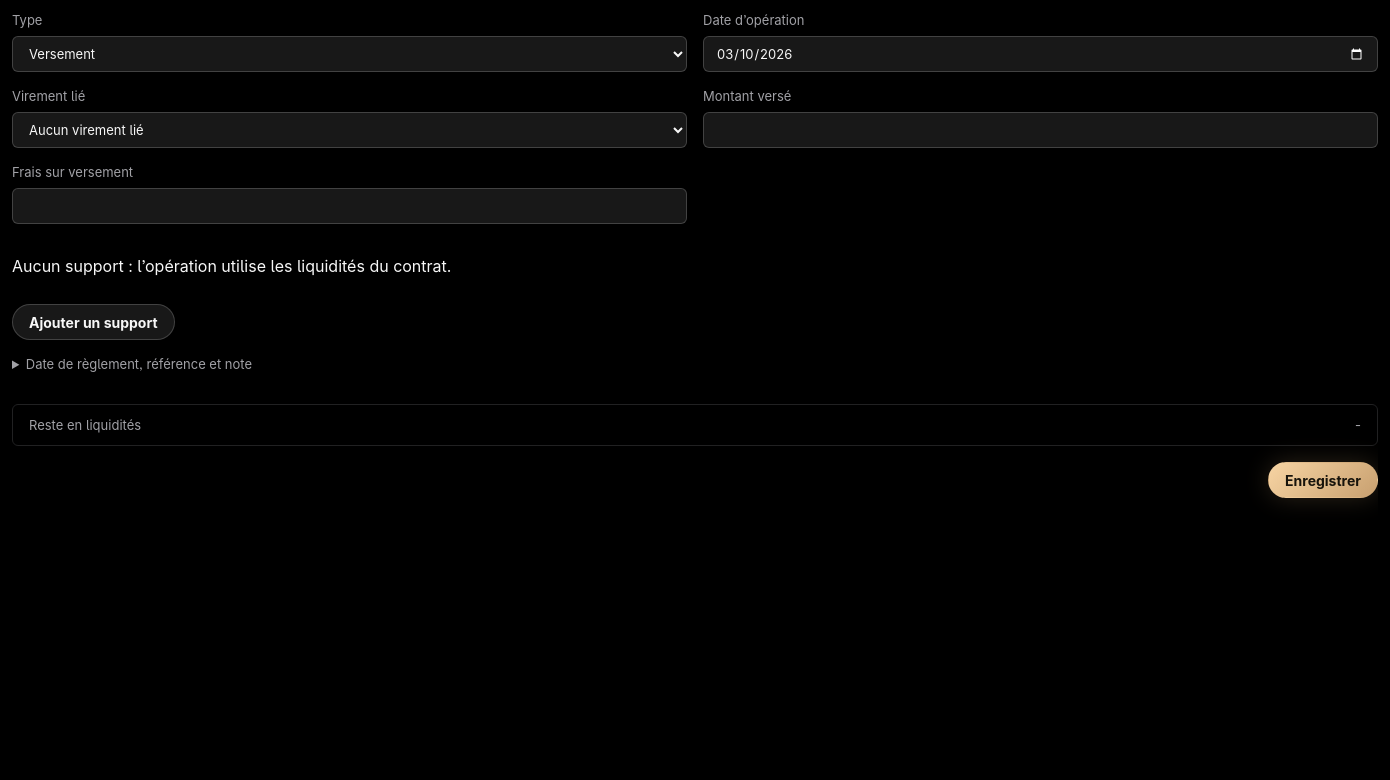
OperationForm › shows the server net paid for the reference surrender
The width and height of the screenshot is (1390, 780).
Select "Rachat partiel" in the dropdown labelled "Type" at {"x": 350, "y": 54}, box [12,36,687,72]
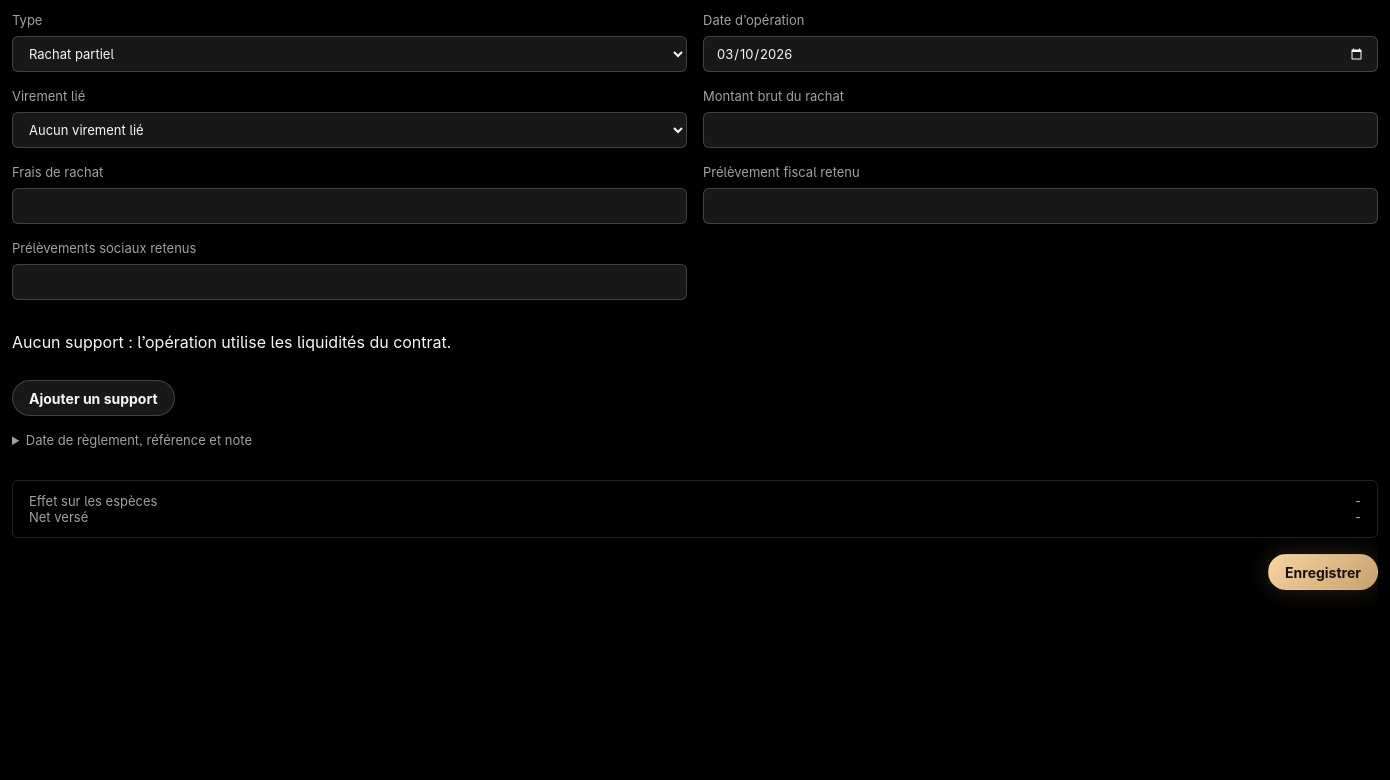
Type "1050.00" into the field labelled "Montant brut du rachat" at {"x": 1040, "y": 130}, box [703,112,1378,148]
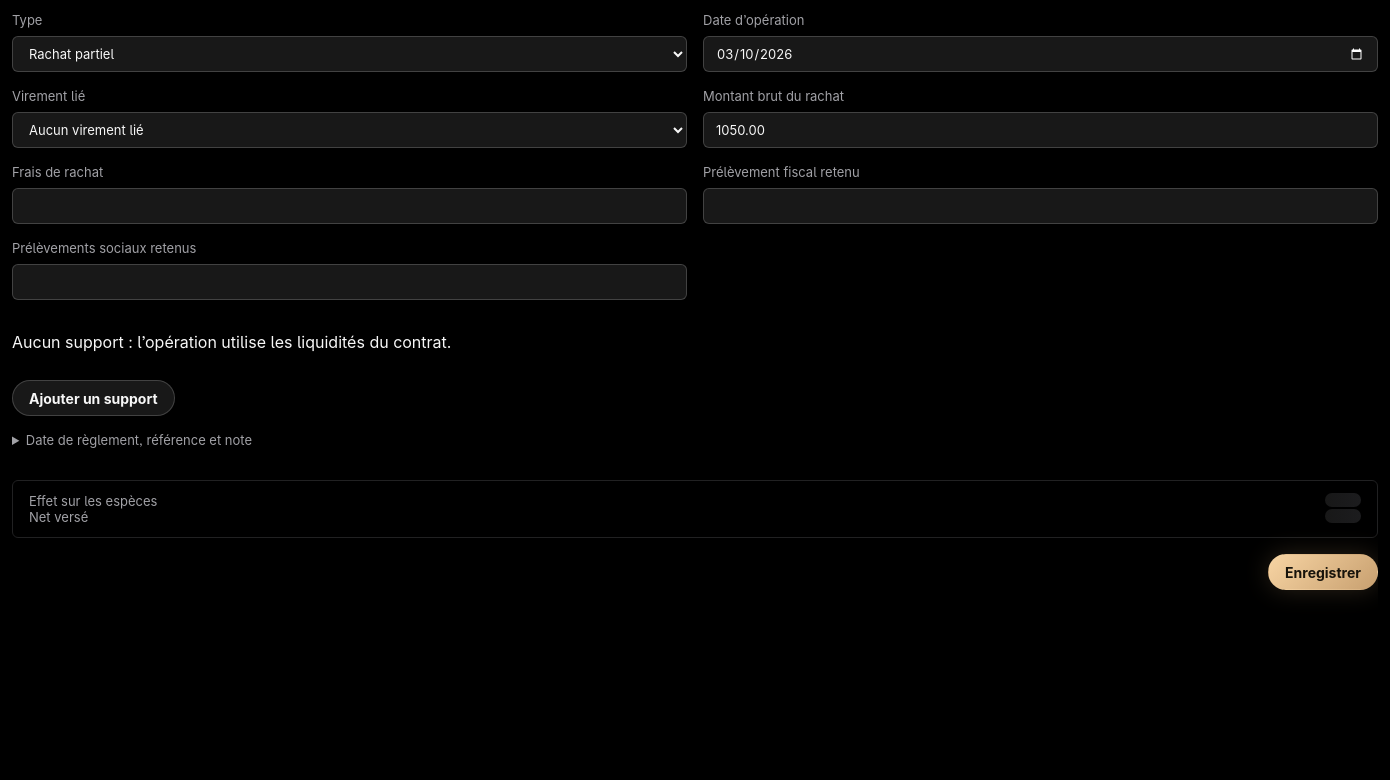
Type "7.50" into the field labelled "Prélèvement fiscal retenu" at {"x": 1040, "y": 206}, box [703,188,1378,224]
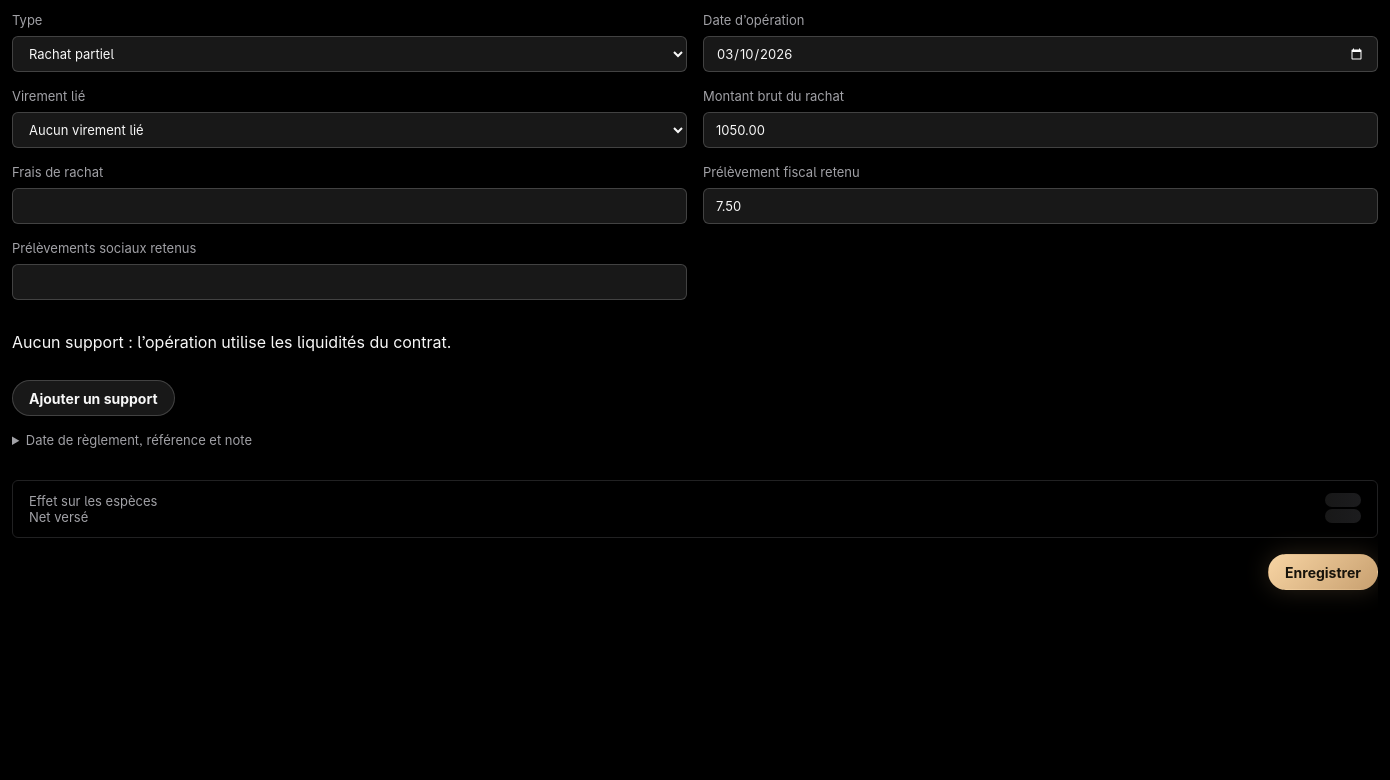
Type "8.60" into the field labelled "Prélèvements sociaux retenus" at {"x": 350, "y": 282}, box [12,264,687,300]
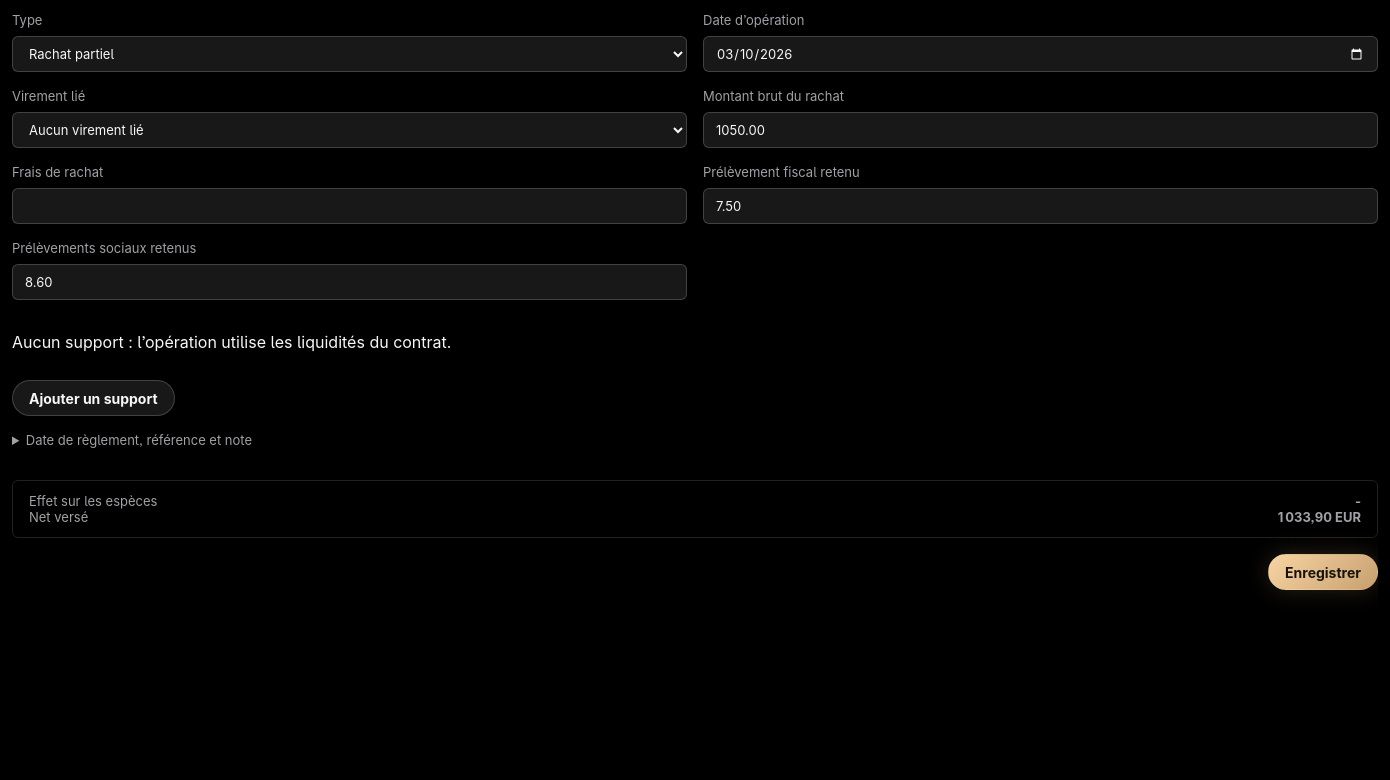
Now the text "Net versé" is shown, box [29,509,88,525]
Now the text "1 033,90 EUR" is shown, box [1278,509,1361,525]
